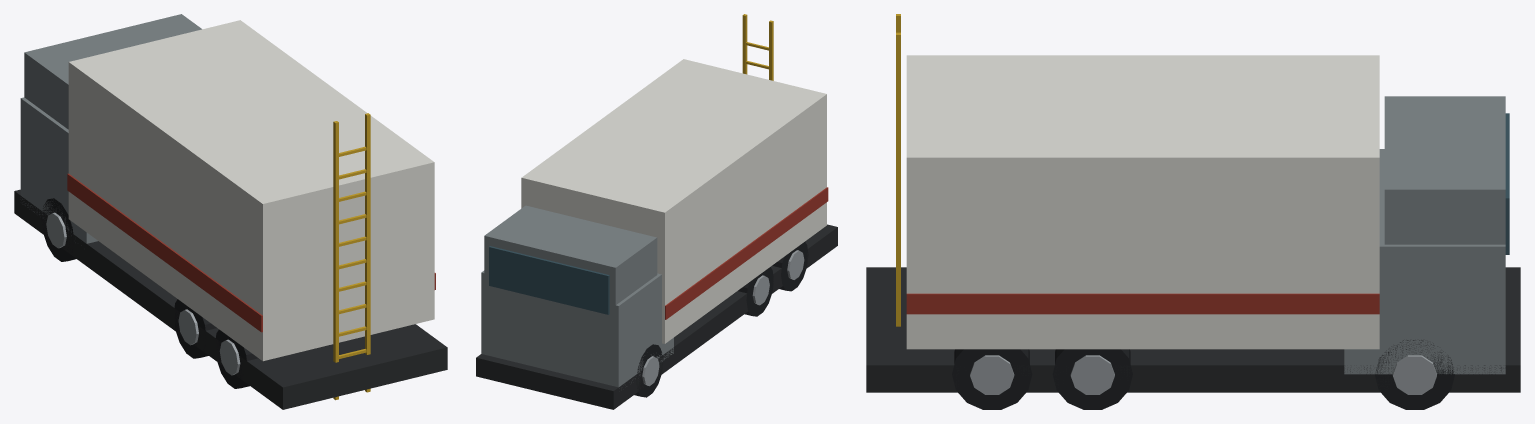
Rendered from box_truck_climb.glb.
The picture shows the model from 3 angles, left to right: view 1: azimuth 30°, elevation 25°; view 2: azimuth 150°, elevation 25°; view 3: azimuth 270°, elevation 25°; orthographic projection. The views are drawn at different scales.
Parts seen in each view (by area): view 1: box_truck_climb; view 2: box_truck_climb; view 3: box_truck_climb.
Part boxes in pixels (x1,y1,x2,y2): box_truck_climb: (14, 14, 447, 409); box_truck_climb: (476, 14, 837, 409); box_truck_climb: (866, 14, 1520, 409).
Bounding box in the file's own units: 2.44 × 3.7 × 6.5.
